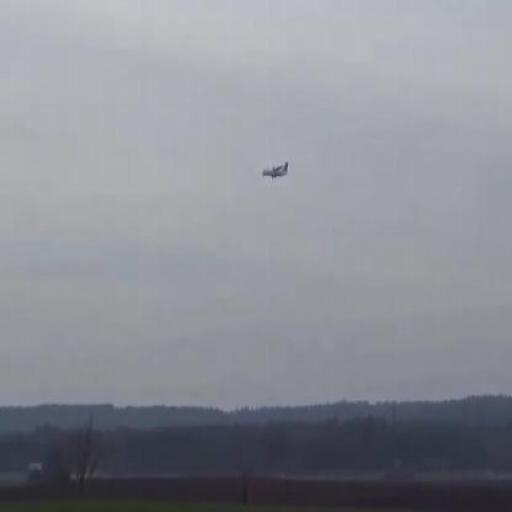aircraft: (262, 164, 288, 181)
